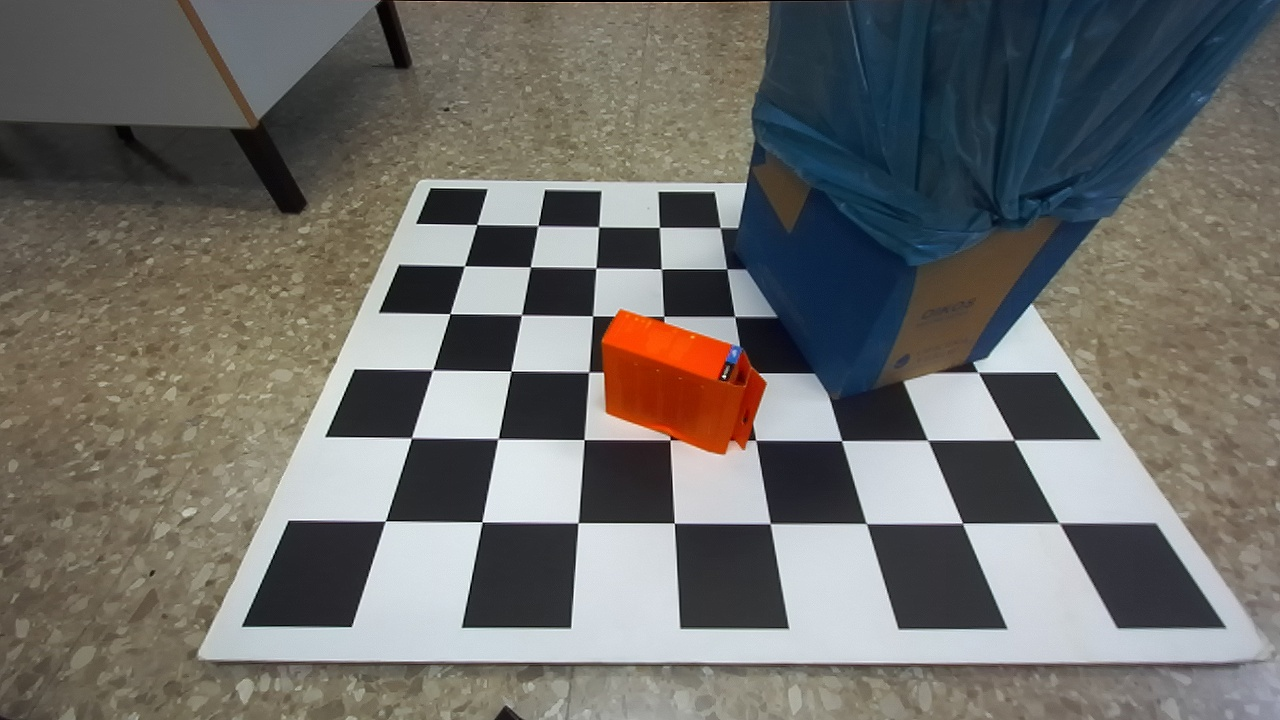caja_manguera: (602, 309, 766, 453)
